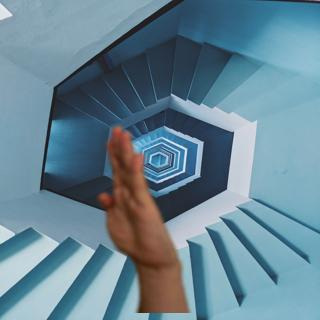RIGHT: (98, 124, 179, 272)
